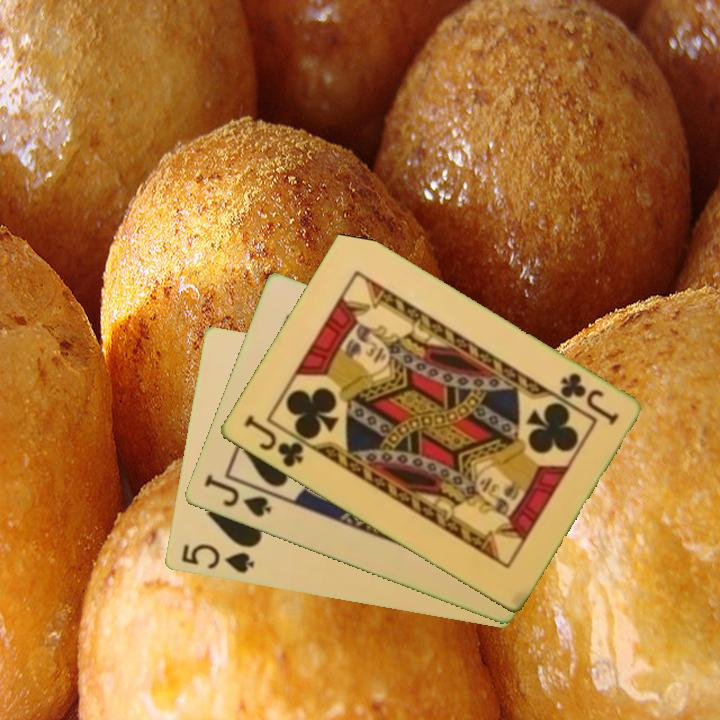5s: (177, 540, 257, 577)
Jc: (240, 412, 306, 471), (556, 369, 621, 428)
Js: (200, 471, 274, 521)
